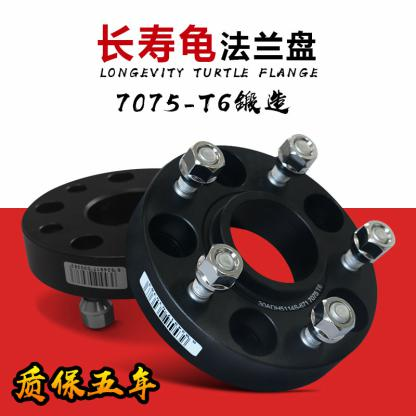FOD: (119, 139, 383, 393), (16, 163, 164, 303)
